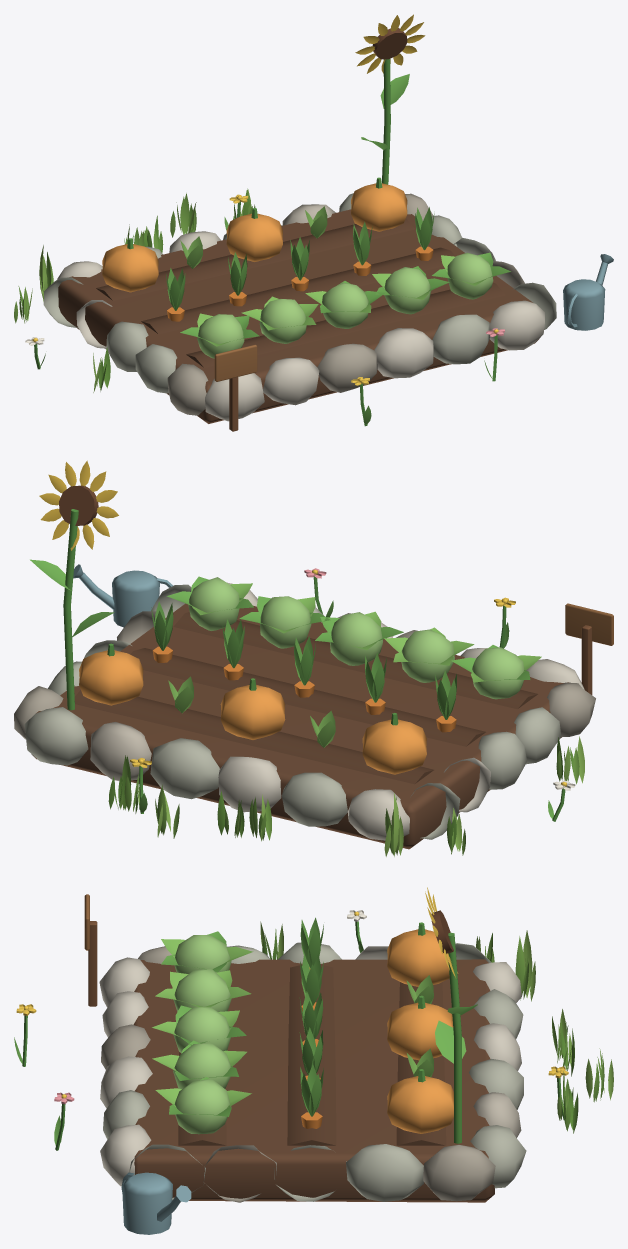
The model's file is garden_plot.glb.
3 renders of one model, top to bottom at view 1: azimuth 30°, elevation 25°; view 2: azimuth 150°, elevation 25°; view 3: azimuth 270°, elevation 25°, orthographic. The views are drawn at different scales.
Visible parts, largest first — view 1: Plot; view 2: Plot; view 3: Plot.
Part boxes in pixels (box(x1,y1,x2,y2)): Plot: box(14, 14, 613, 431); Plot: box(14, 460, 613, 856); Plot: box(14, 887, 613, 1234).
Size of the model in its own units: 3.92 by 1.81 by 3.29.
